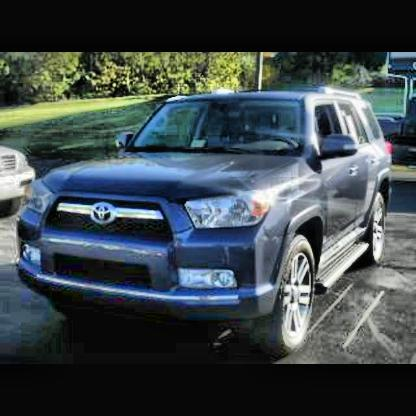Toyota 4Runner SUV 2012: (15, 95, 394, 353)
